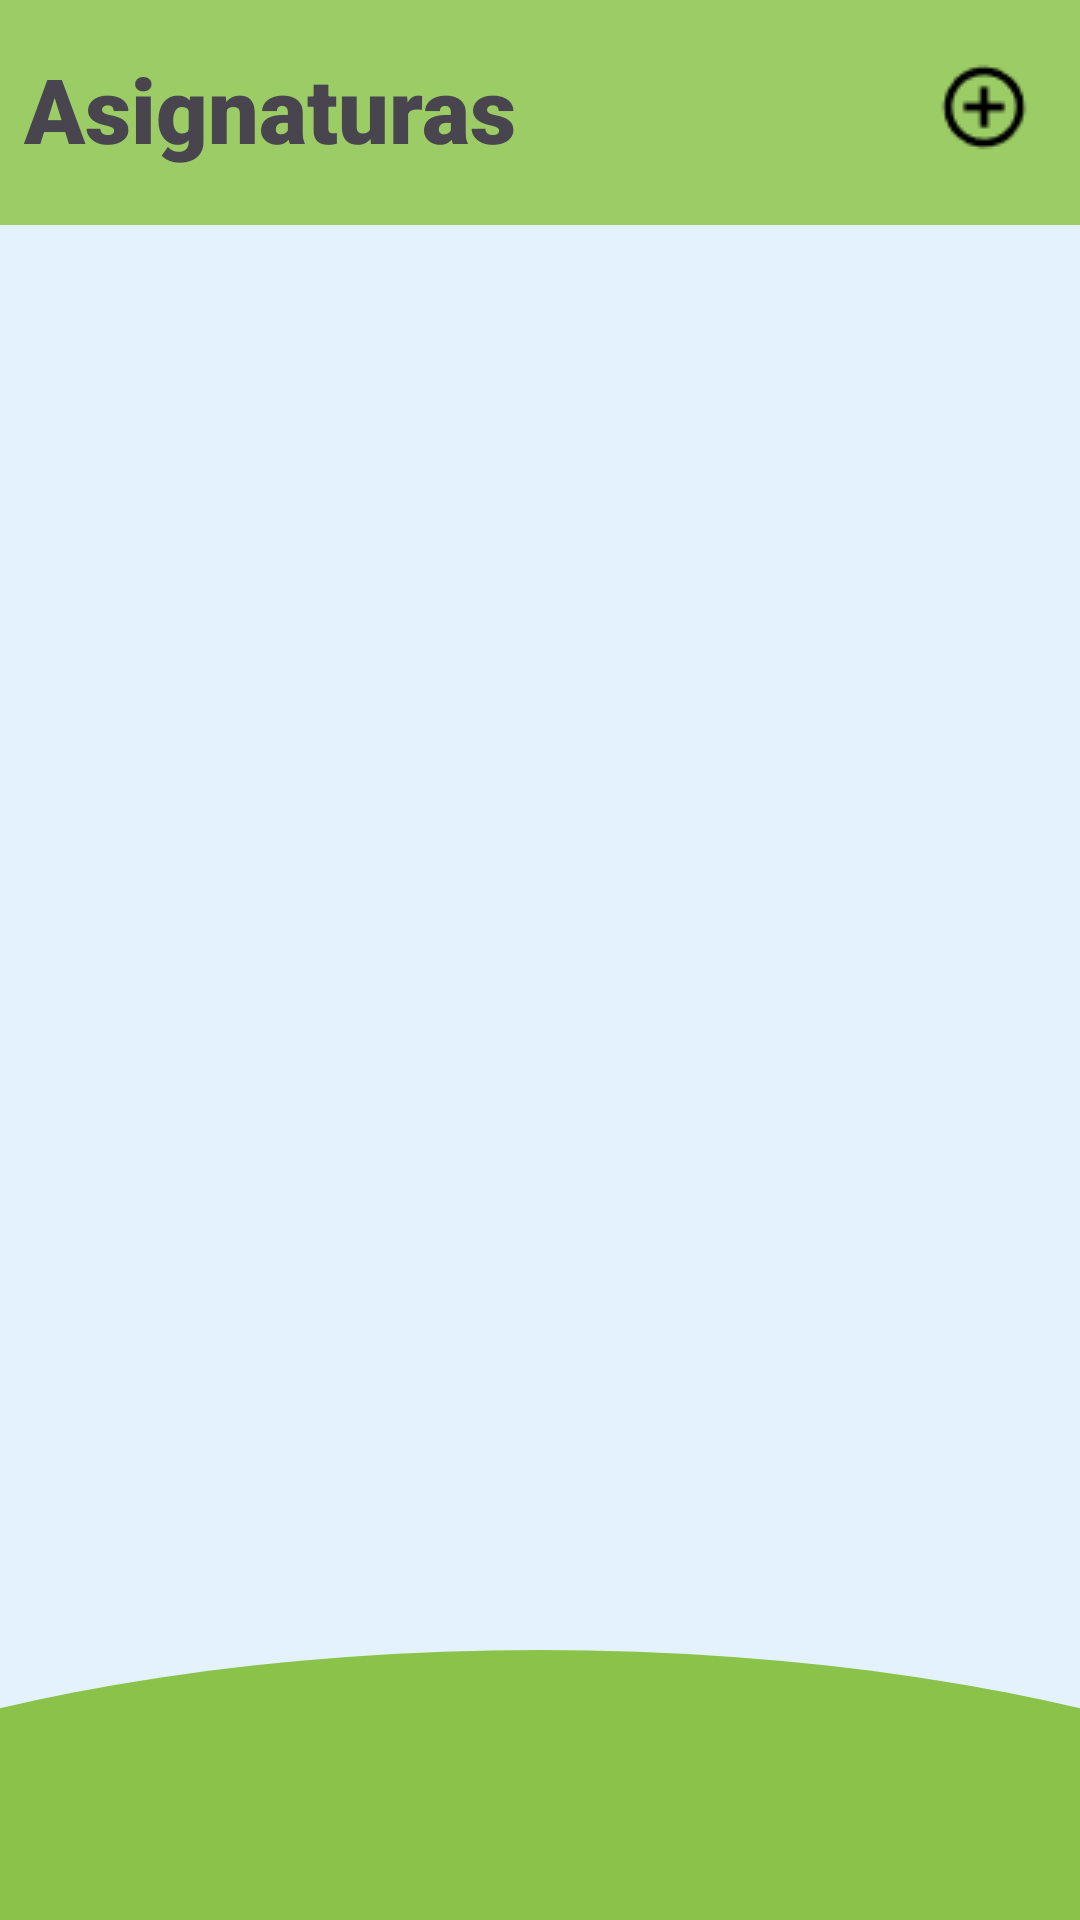

Screen size 1080x1920. Icon name, then its box in pixels as (x1, y1, x2, y2):
add: (942, 65, 1026, 149)
